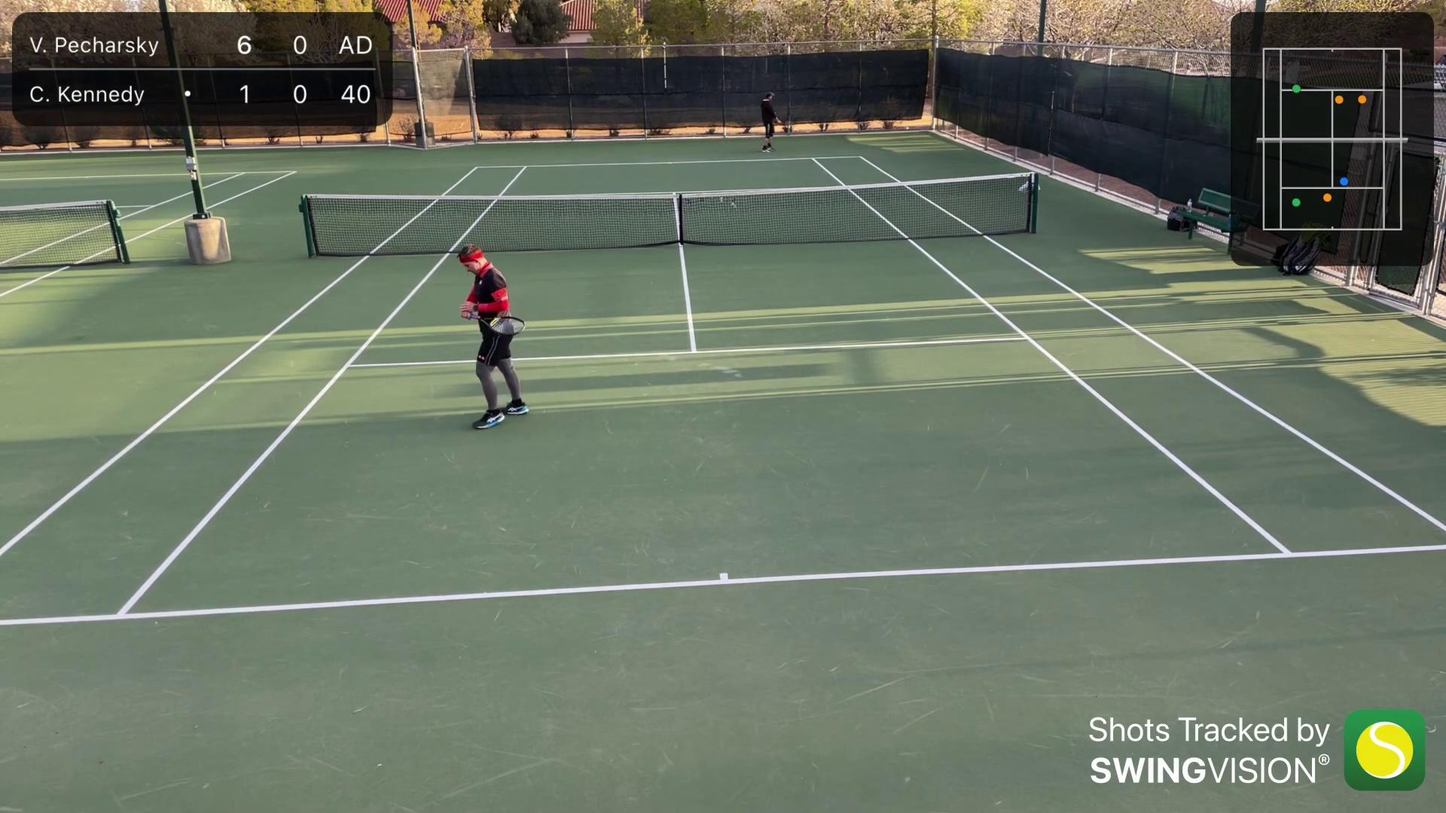ball: (904, 125, 909, 130)
